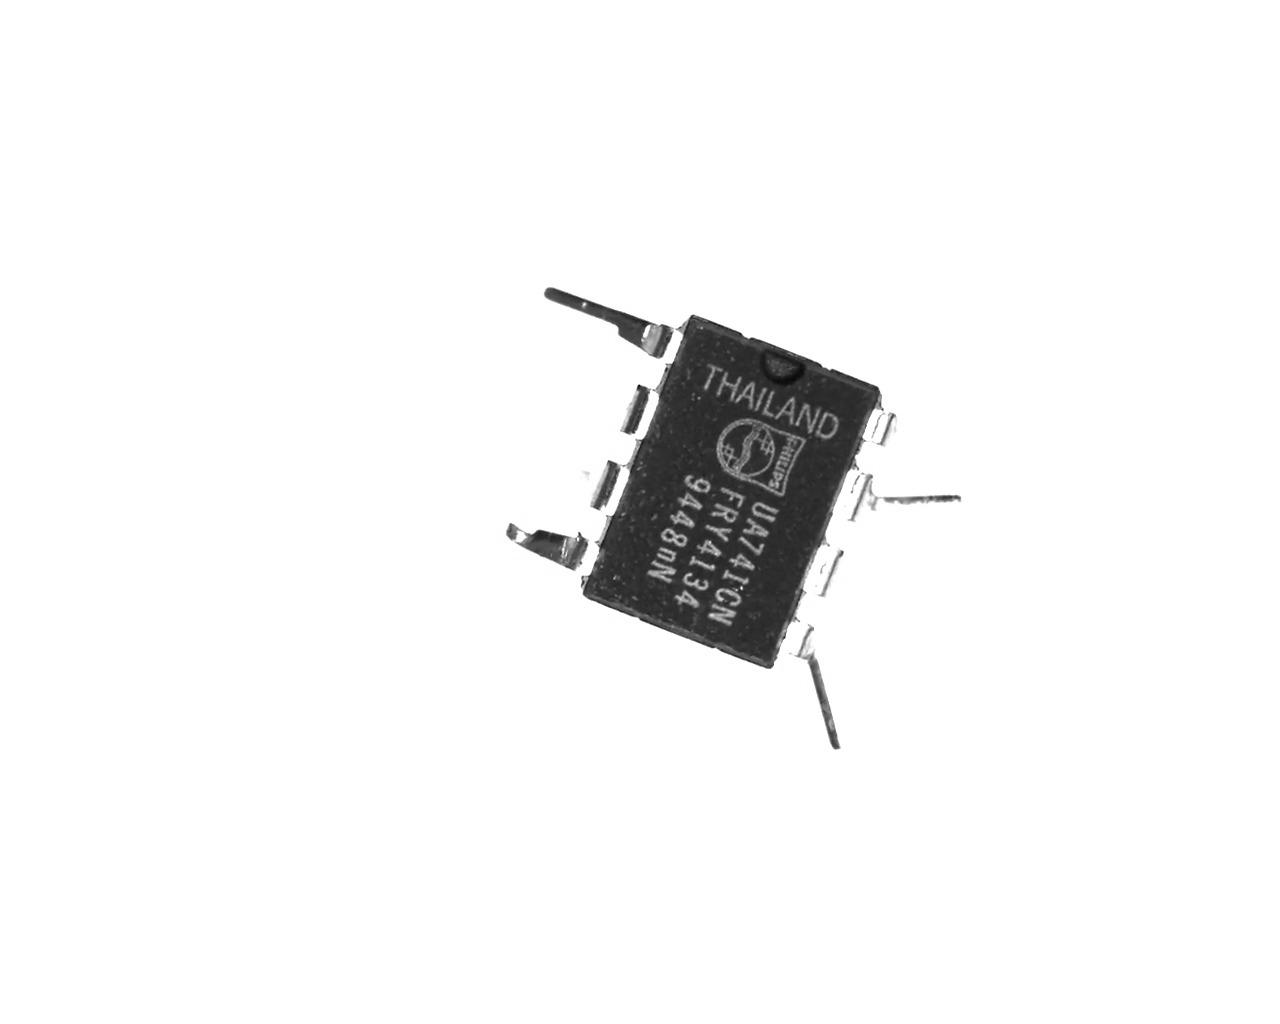Leg: (538, 277, 683, 366), (788, 607, 846, 758), (843, 466, 969, 534), (505, 516, 598, 579), (795, 534, 856, 608), (569, 463, 625, 521), (613, 380, 657, 451), (863, 403, 910, 456)
